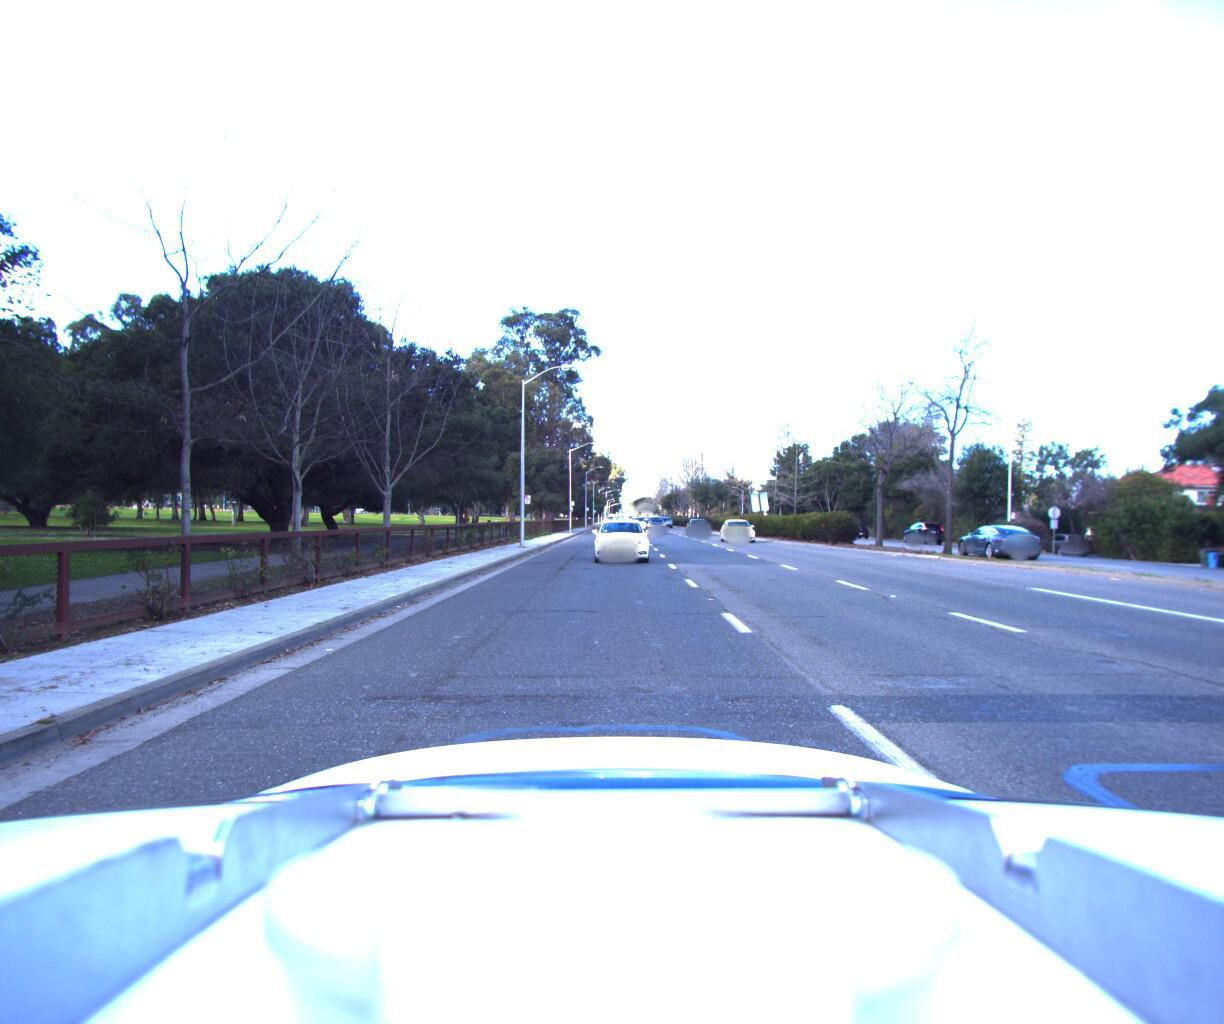car: (938, 521, 1031, 559), (589, 513, 656, 561), (717, 514, 764, 541), (890, 518, 939, 540), (686, 515, 713, 534), (646, 513, 668, 531)
